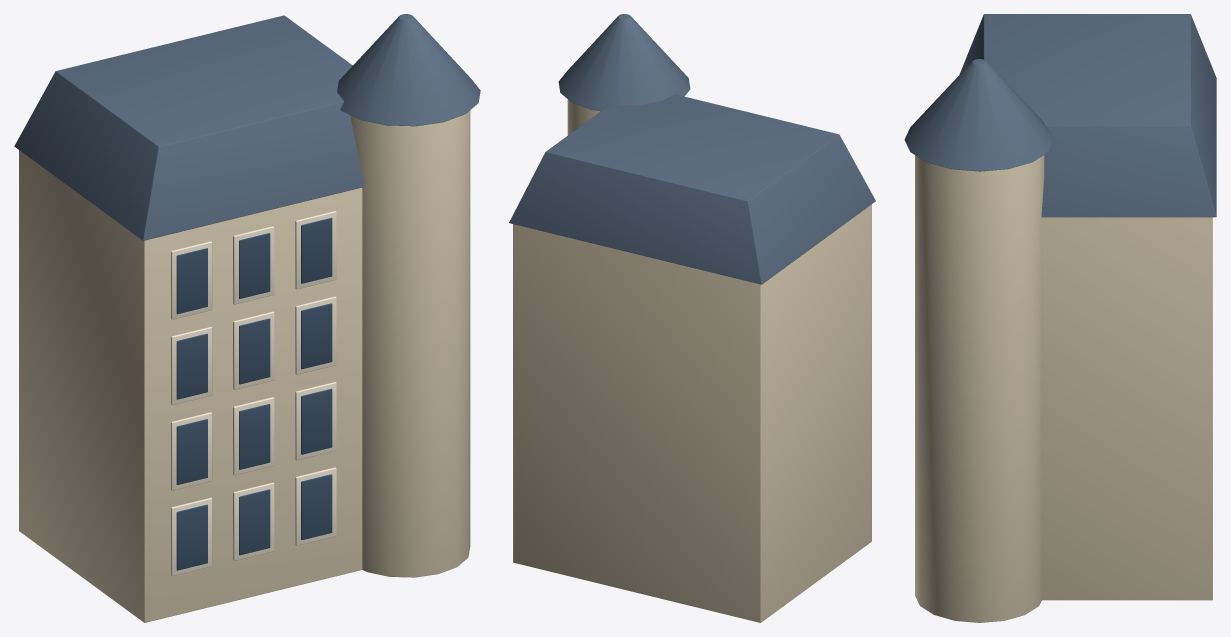
The model's file is rg_franca_3.glb.
3 renders of one model, left to right at view 1: azimuth 30°, elevation 25°; view 2: azimuth 150°, elevation 25°; view 3: azimuth 270°, elevation 25°, orthographic. The views are drawn at different scales.
Parts seen in each view (by area): view 1: rg_franca_3; view 2: rg_franca_3; view 3: rg_franca_3.
Part boxes in pixels (bbox=[...]): rg_franca_3: bbox=[14, 14, 480, 622]; rg_franca_3: bbox=[509, 14, 875, 622]; rg_franca_3: bbox=[904, 14, 1216, 622].
Bounding box in the file's own units: 10.89 × 16.4 × 8.69.
